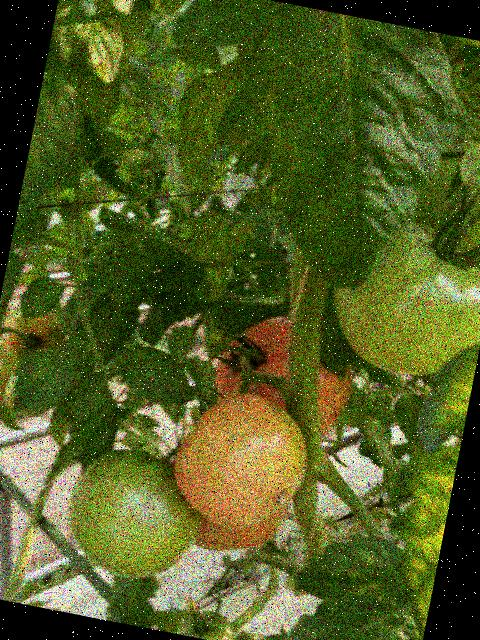b_green: (319, 208, 480, 387), (57, 439, 212, 590), (407, 136, 480, 261), (176, 604, 241, 640), (0, 348, 25, 406)
b_half_ripened: (163, 381, 319, 542), (206, 303, 362, 449), (193, 484, 290, 564), (0, 300, 69, 361)
